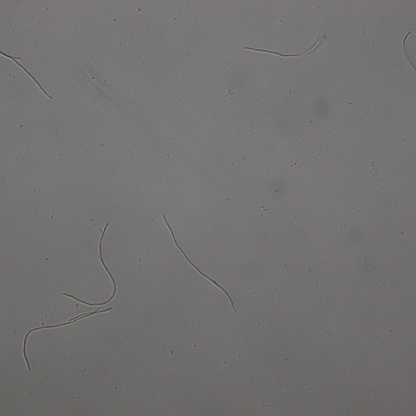Sensitive: (162, 215, 234, 311), (23, 308, 112, 369), (63, 222, 115, 306), (1, 49, 53, 99), (245, 33, 325, 60)
